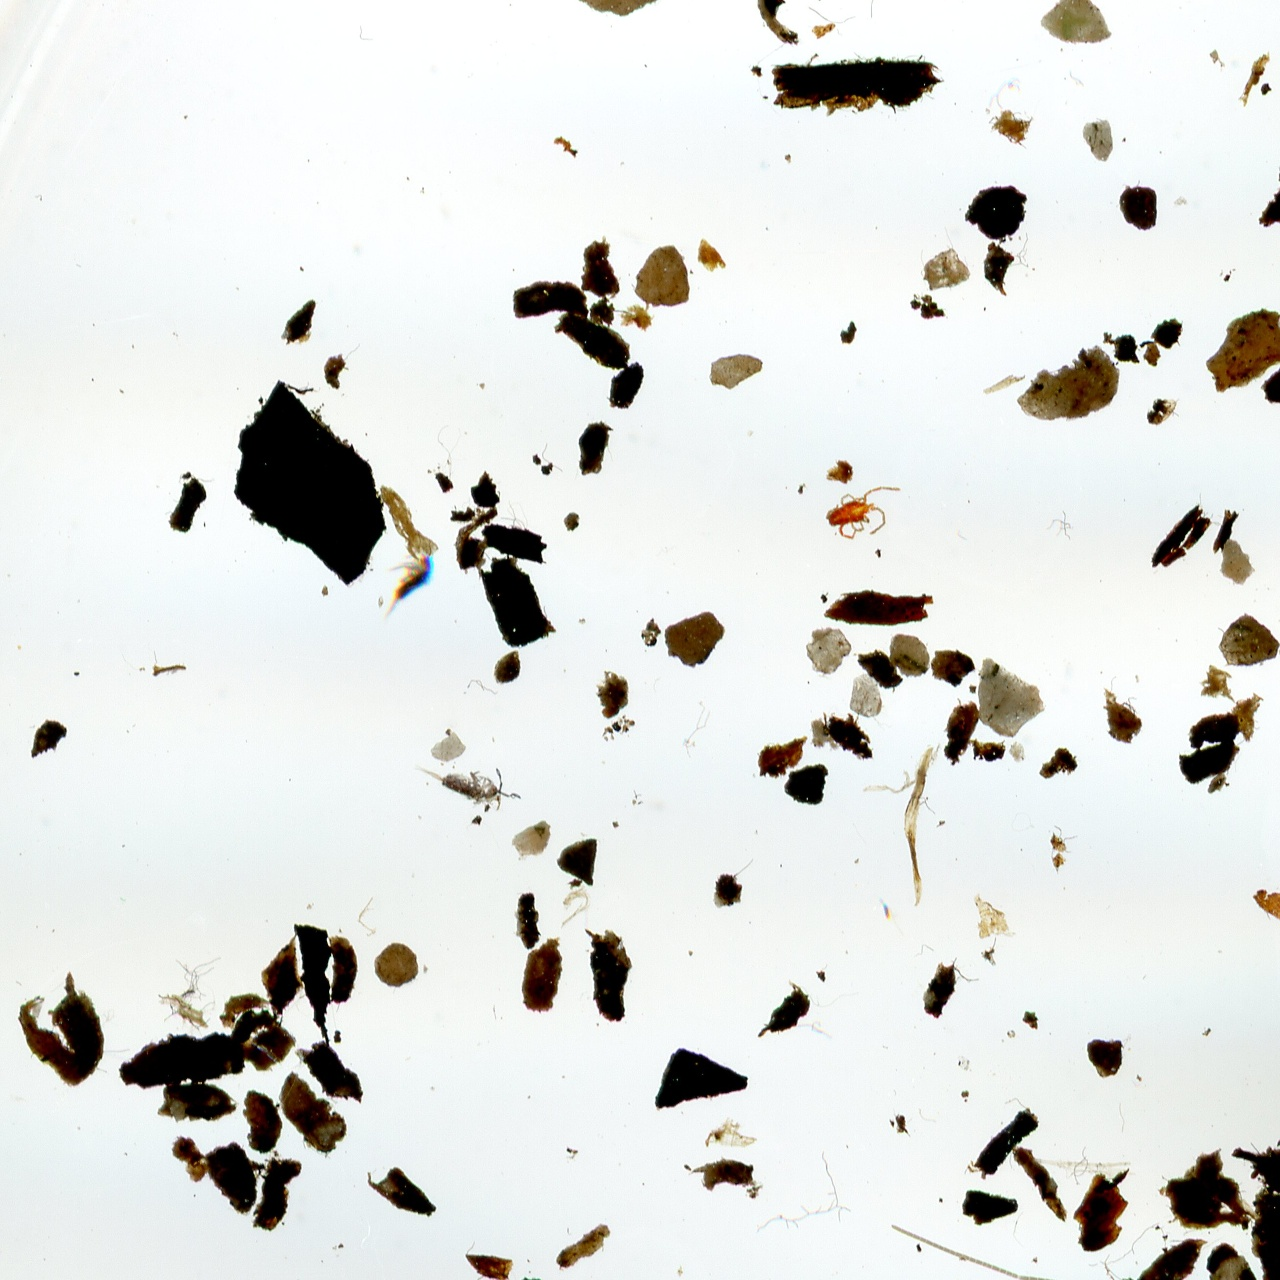arthropod: (816, 856, 1280, 1280), (406, 740, 531, 822), (824, 482, 904, 543), (380, 551, 436, 627)
